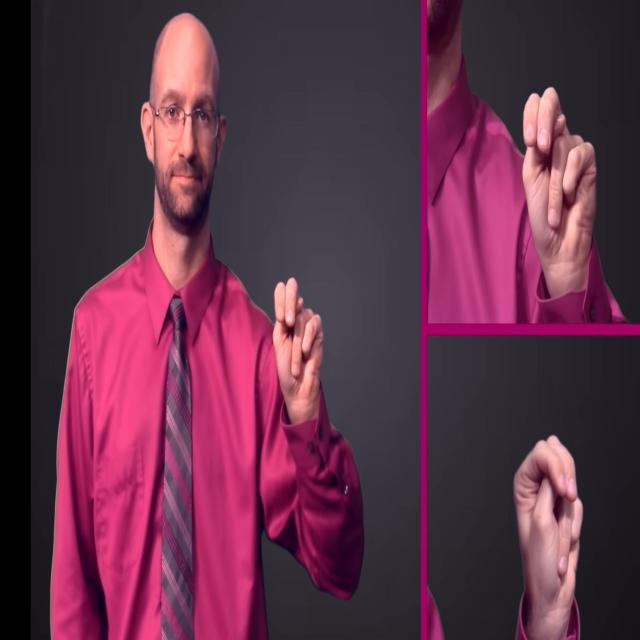N: (520, 85, 598, 260), (510, 432, 584, 613), (271, 277, 325, 400)
